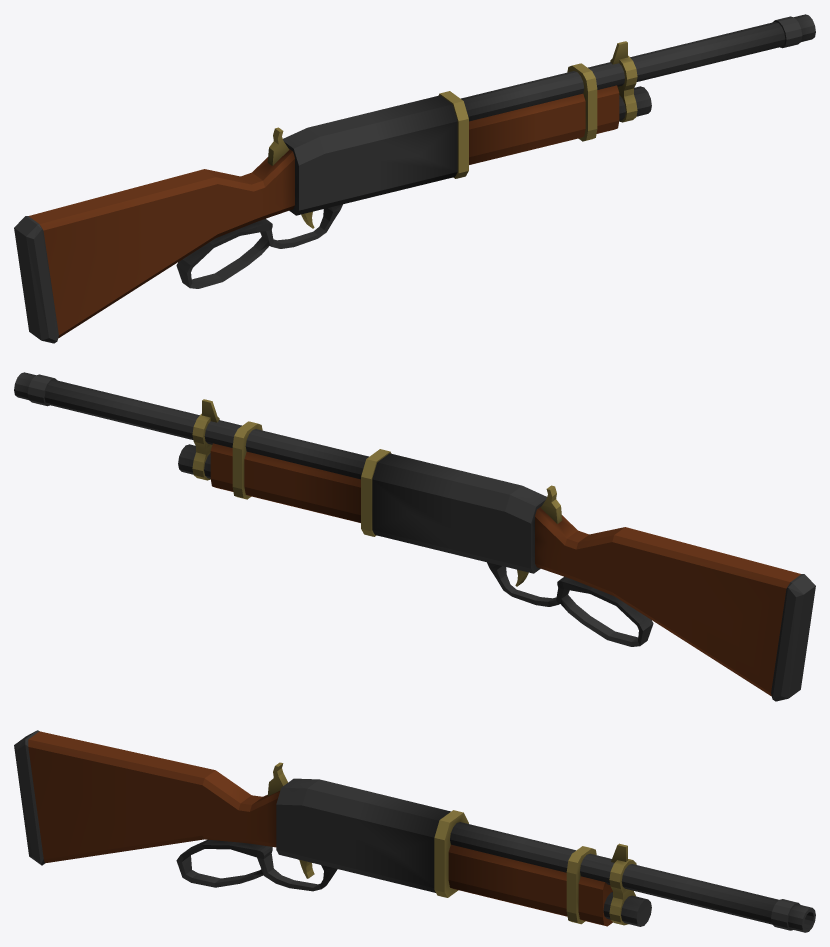
The model's file is v-lever-rifles-medium.glb.
3 renders of one model, top to bottom at view 1: azimuth 30°, elevation 25°; view 2: azimuth 150°, elevation 25°; view 3: azimuth 330°, elevation 25°, orthographic.
Visible parts, largest first — view 1: front (×3), receiver (×3), stock (×2), grip; view 2: front (×3), receiver (×3), stock (×2), grip; view 3: front (×3), receiver (×3), stock (×2), grip.
Part boxes in pixels (left/top/right/bottom): front (×3): left=360, top=14, right=815, bottom=196; receiver (×3): left=139, top=115, right=377, bottom=286; stock (×2): left=14, top=186, right=151, bottom=343; grip: left=176, top=248, right=205, bottom=288; front (×3): left=14, top=372, right=469, bottom=554; receiver (×3): left=452, top=473, right=690, bottom=644; stock (×2): left=678, top=544, right=815, bottom=701; grip: left=624, top=606, right=653, bottom=646; front (×3): left=355, top=792, right=815, bottom=932; receiver (×3): left=136, top=755, right=371, bottom=891; stock (×2): left=14, top=730, right=148, bottom=865; grip: left=176, top=840, right=205, bottom=883.
Size of the model in its own units: 0.9 by 0.1701 by 0.0477.
